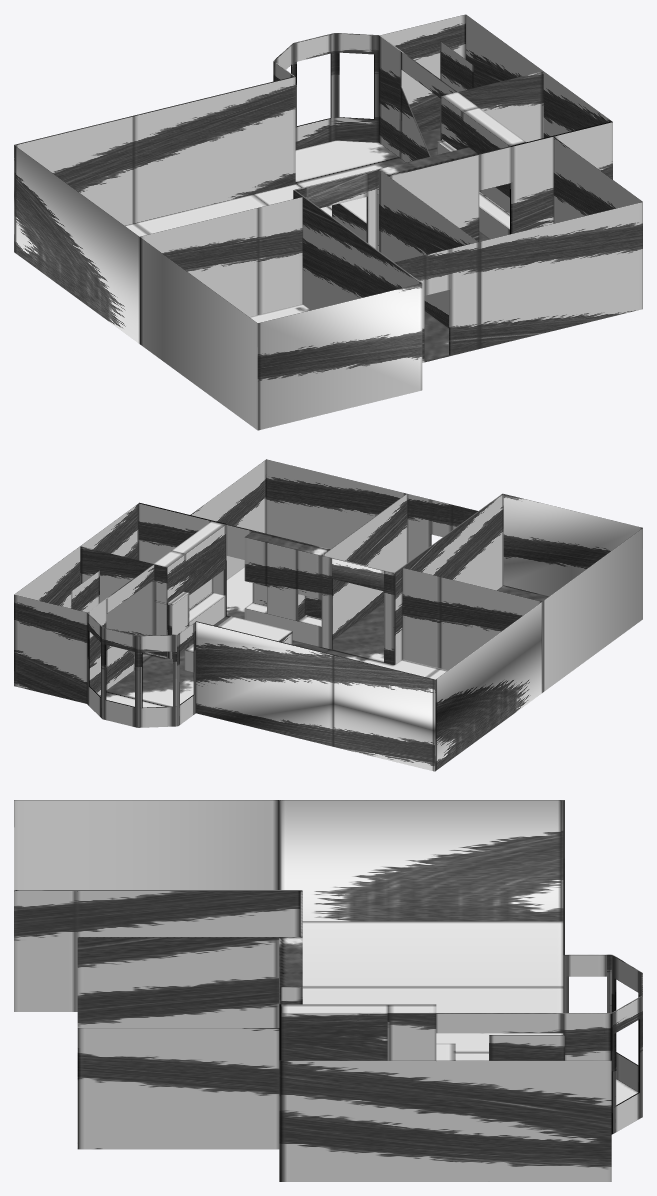
Rendered from Dining_Room_1_2.fbx.
3 renders of one model, top to bottom at view 1: azimuth 30°, elevation 25°; view 2: azimuth 150°, elevation 25°; view 3: azimuth 270°, elevation 25°, orthographic. The views are drawn at different scales.
Parts seen in each view (by area): view 1: Room; view 2: Room; view 3: Room.
Part boxes in pixels (x1,y1,x2,y2): Room: (14,14,642,430); Room: (14,459,642,771); Room: (14,800,642,1181).
Bounding box in the file's own units: 3881 × 844 × 3958.
Materials: 1 (1 with a texture image).
